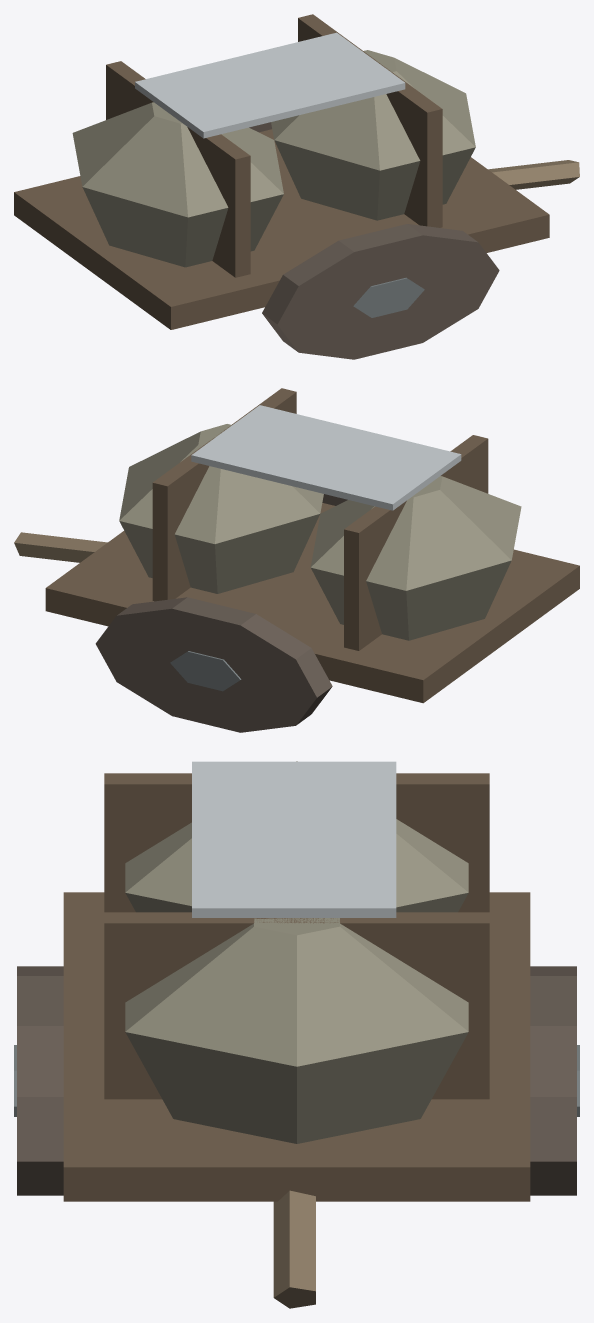
The model's file is hay_cart.glb.
3 views of the same model, one above another, from view 1: azimuth 30°, elevation 25°; view 2: azimuth 150°, elevation 25°; view 3: azimuth 270°, elevation 25° (orthographic). The views are drawn at different scales.
Parts seen in each view (by area): view 1: hay_cart; view 2: hay_cart; view 3: hay_cart.
Part boxes in pixels (box(x1,y1,x2,y2)): hay_cart: box(14, 14, 579, 359); hay_cart: box(14, 388, 579, 732); hay_cart: box(14, 761, 579, 1308).
Size of the model in its own units: 3 by 1.2 by 2.
